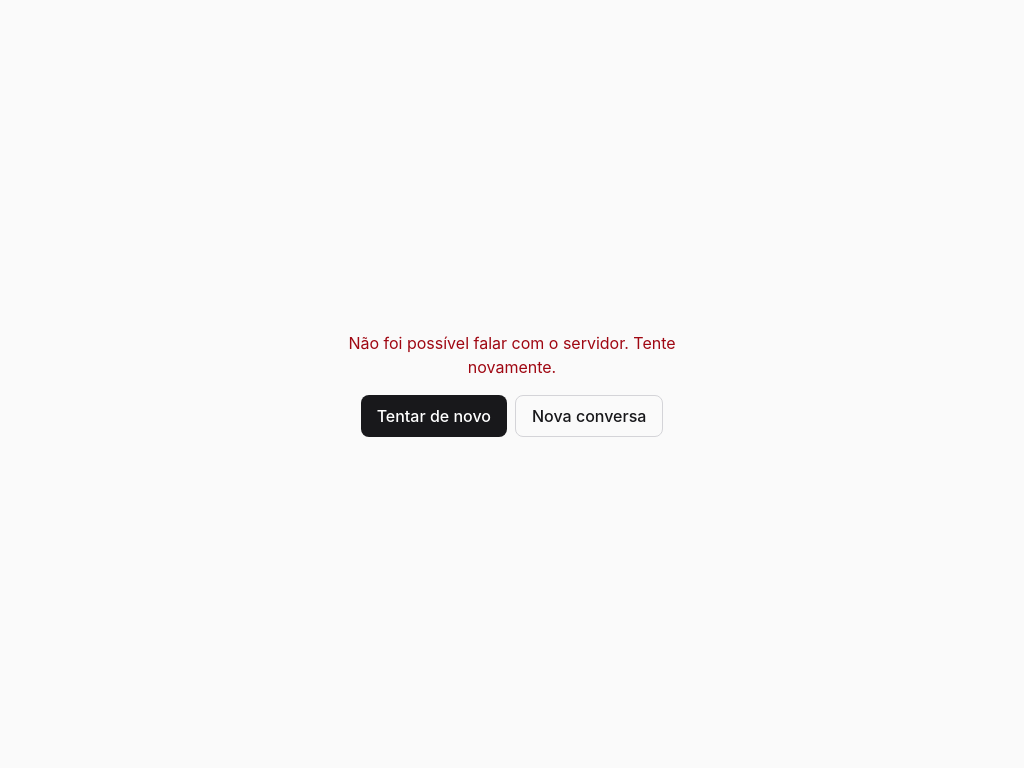
Test case: erros e sessão expirada › erro de rede ao recarregar mostra "Tentar de novo", que repete o carregamento
Click the button "Tentar de novo": (434, 416) [361, 395, 507, 437]
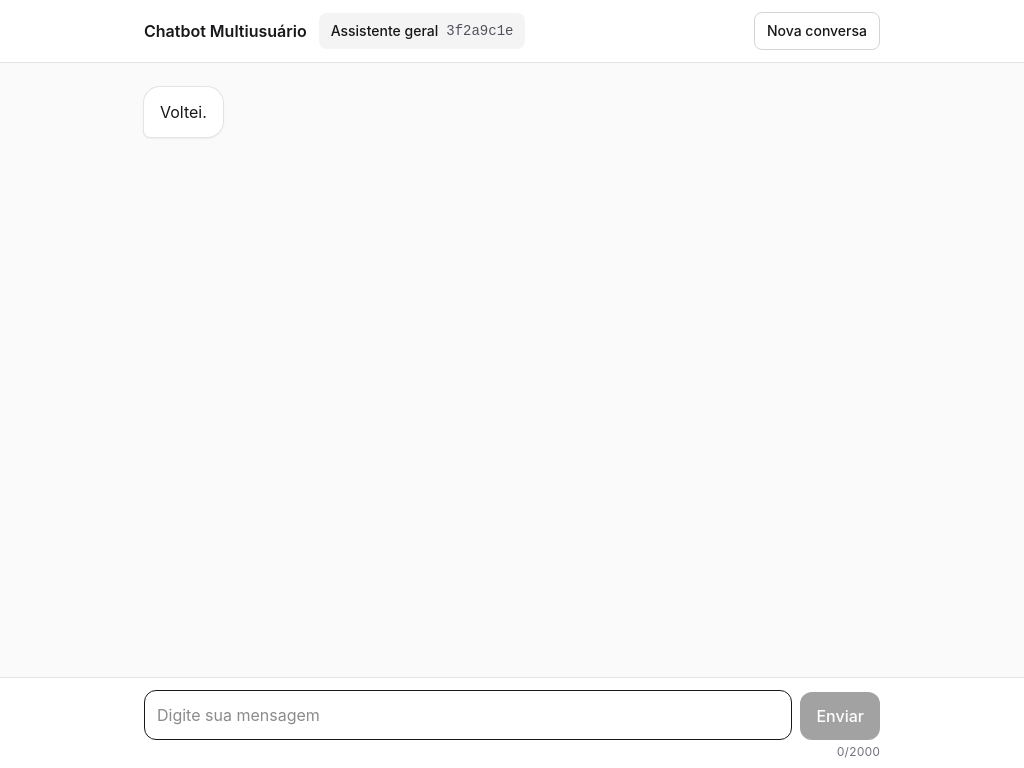
Expected: the text "Voltei." is shown, [160, 99, 207, 125]
